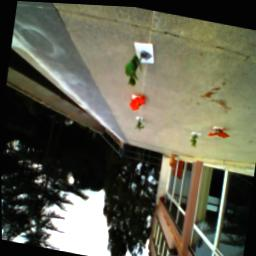herb: (122, 53, 144, 87), (189, 132, 200, 148), (134, 116, 145, 131)
wild: (129, 93, 147, 113), (206, 125, 230, 139)
